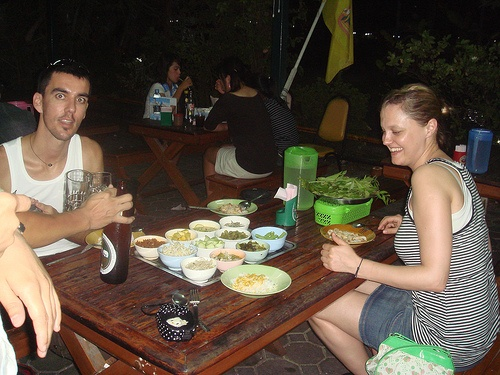head: (379, 84, 445, 168), (33, 58, 91, 142), (216, 57, 255, 97), (159, 56, 181, 88)
person: (300, 83, 497, 372), (1, 56, 128, 366), (199, 54, 280, 195), (144, 54, 190, 111)
